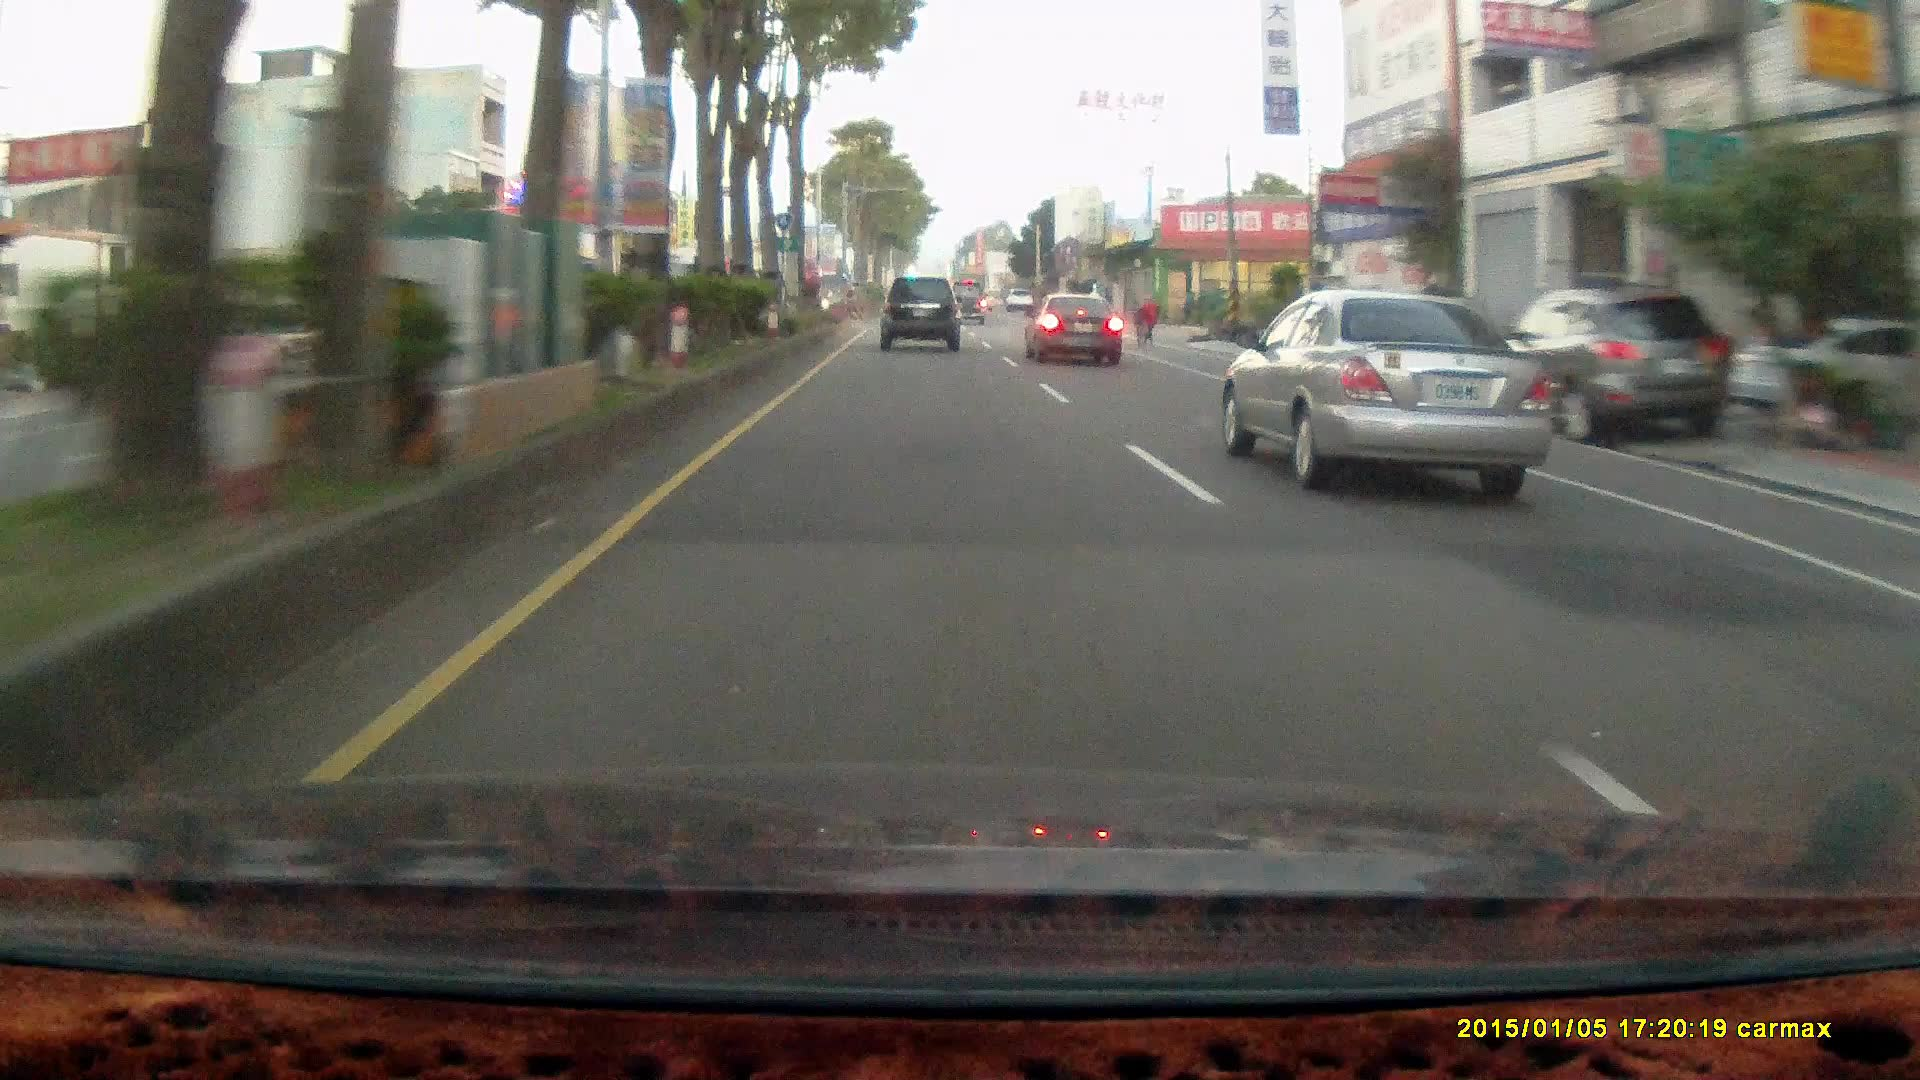pedestrian: (1140, 294, 1160, 344), (1140, 296, 1160, 344)
vehicle: (1220, 292, 1547, 481), (1476, 285, 1734, 442), (1477, 285, 1736, 442), (1722, 315, 1920, 434), (1023, 294, 1126, 371), (1023, 289, 1122, 365), (879, 278, 967, 353), (879, 277, 960, 352), (948, 283, 988, 329)
